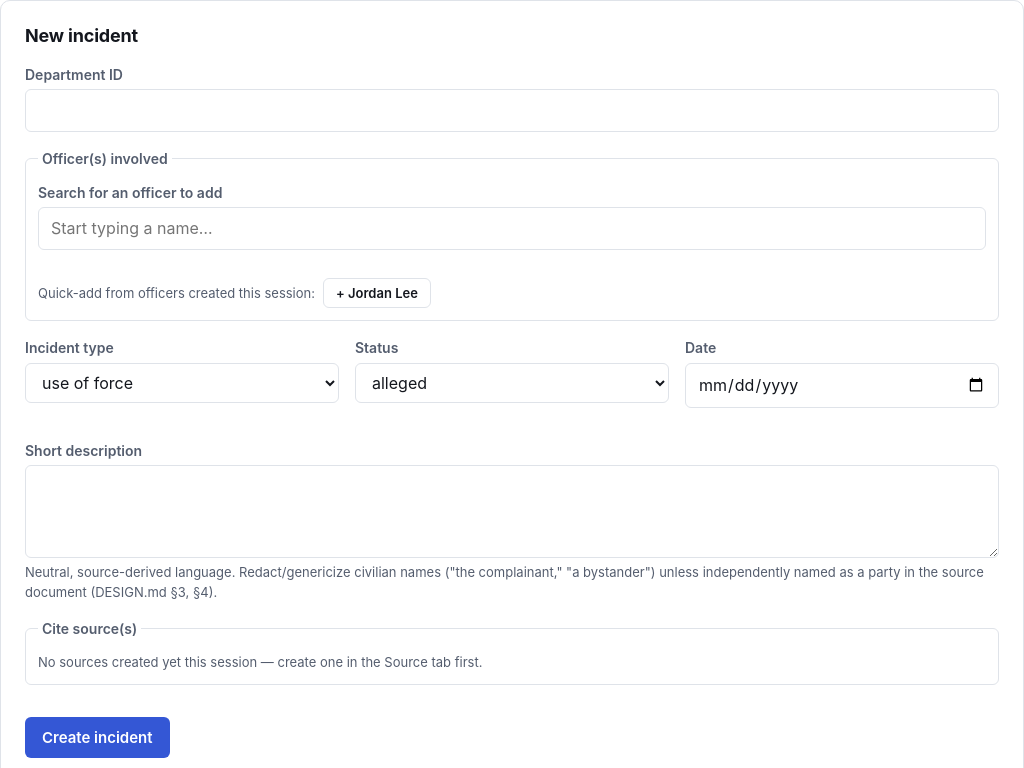
Test: NewIncidentForm › quick-adds an officer created earlier this session and includes it in officerIds
Click the button "+ Jordan Lee": [377, 293] box [323,278,431,308]
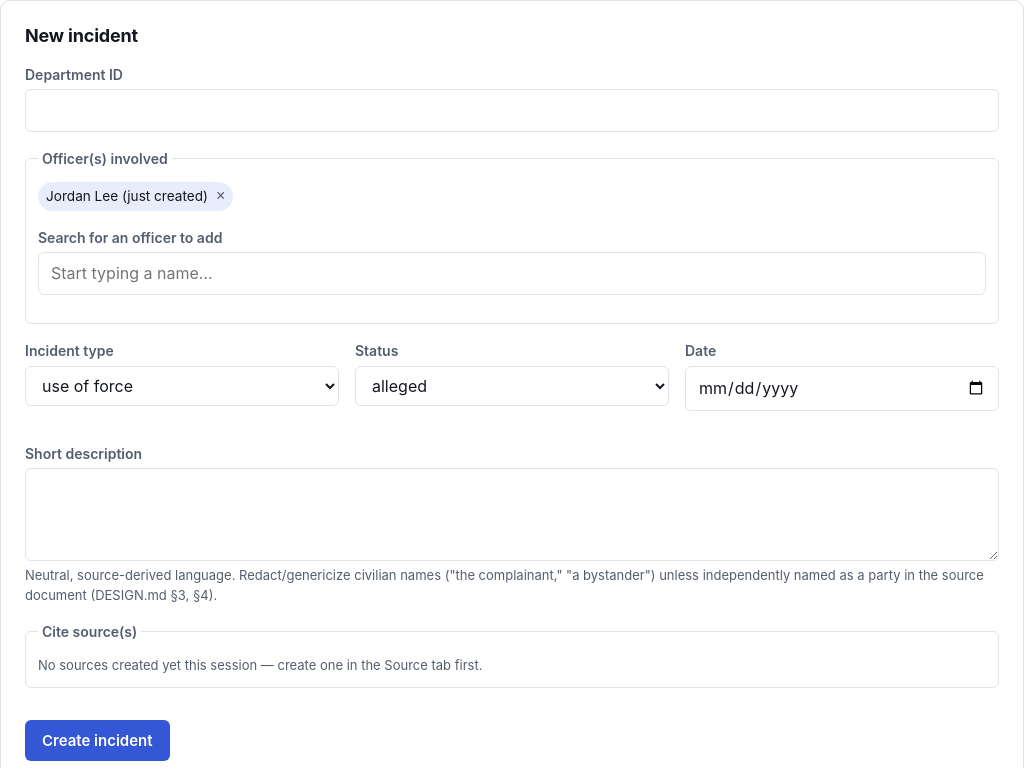
Check: the list item "Jordan Lee (just created) ×" is shown, box [38,182,233,211]
Check: the button "+ Jordan Lee" is gone
In the field labelled "Department ID": [512, 111] box [25,89,999,132], type "dept-1"
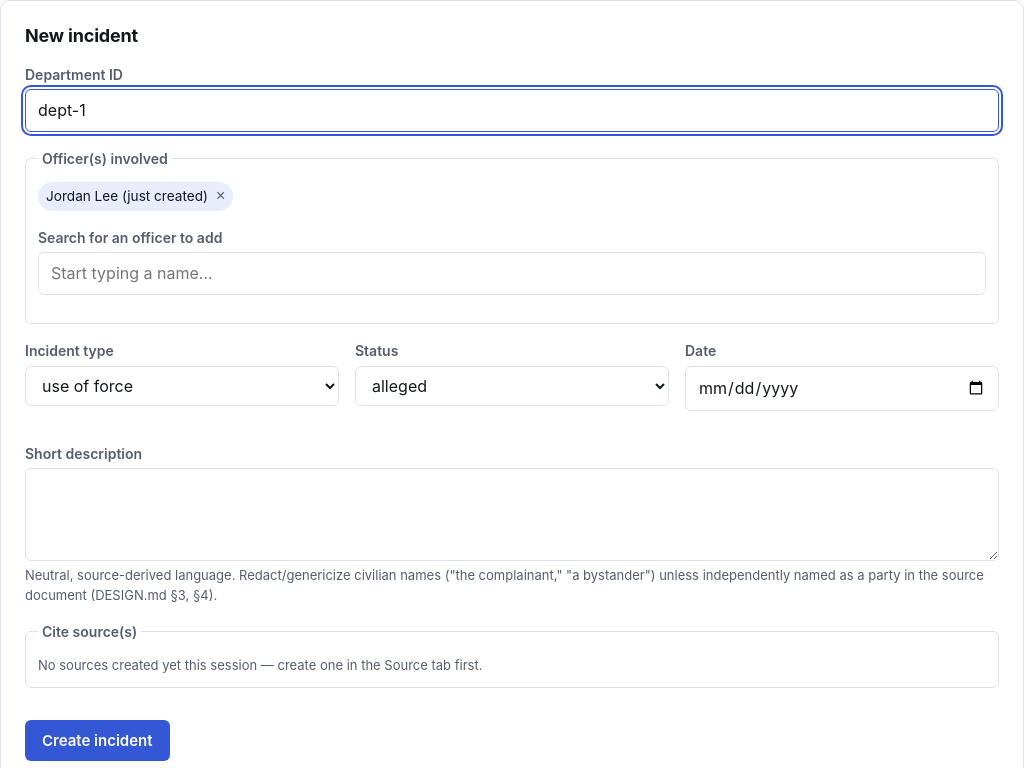
In the date field labelled "Date": [842, 388] box [685,366,999,411], type "2025-06-01"
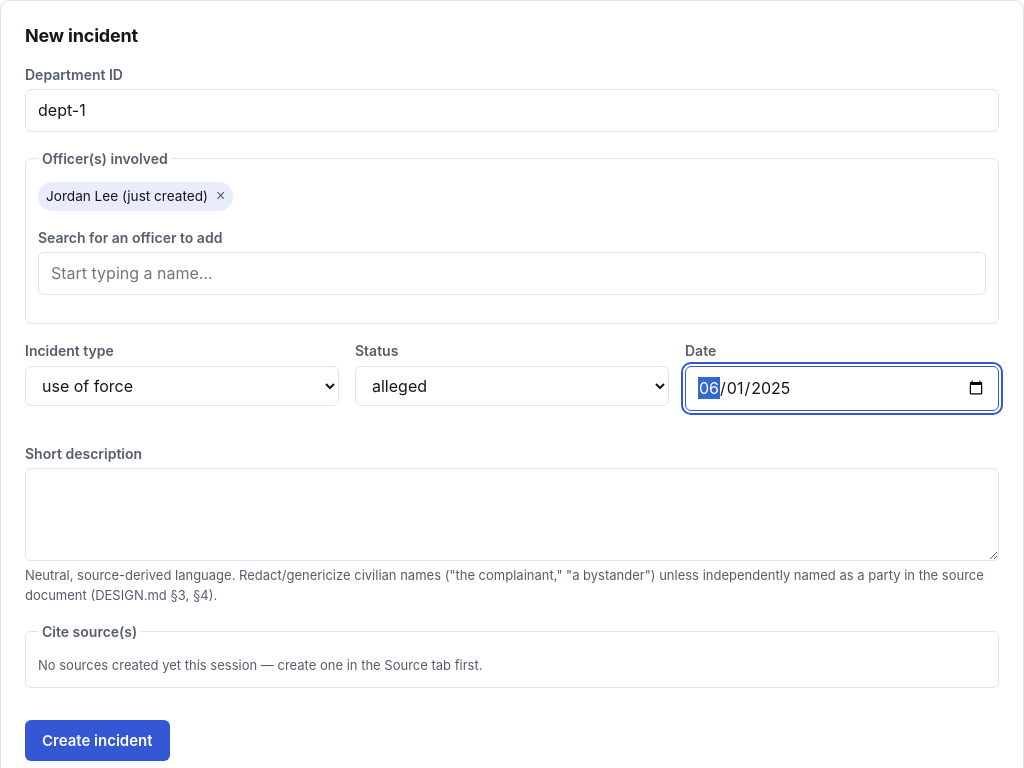
In the text box labelled "Short description": [512, 515] box [25,468,999,561], type "Use of force during a traffic stop."
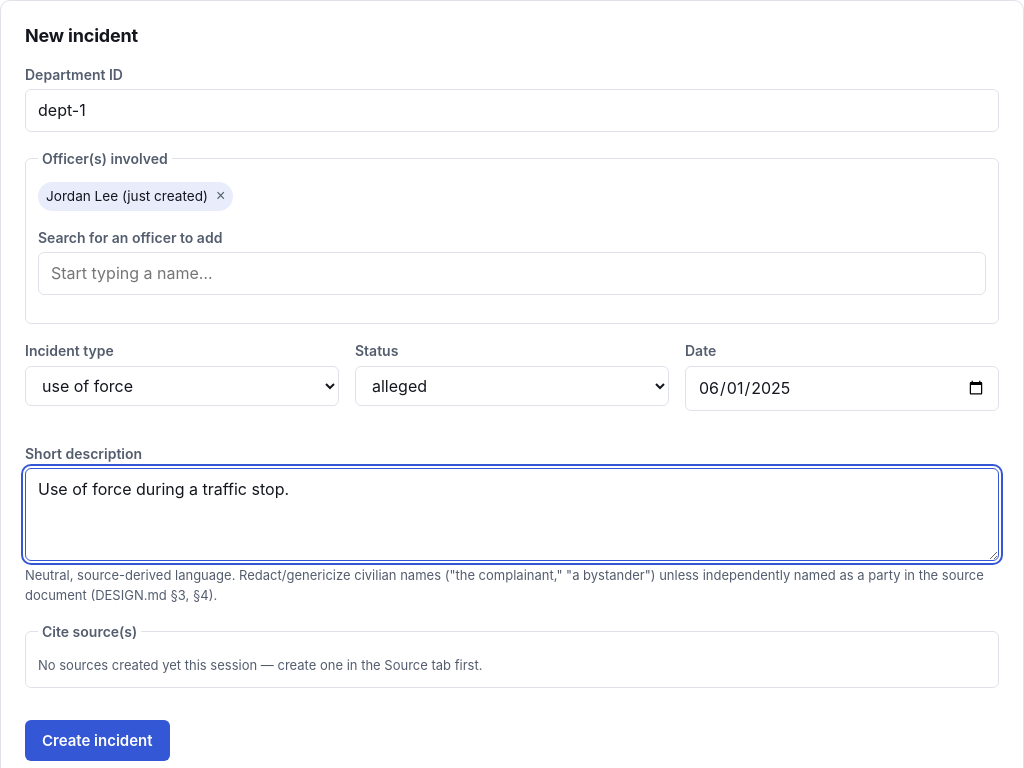
Click the button "Create incident": [97, 741] box [25,720,170,761]
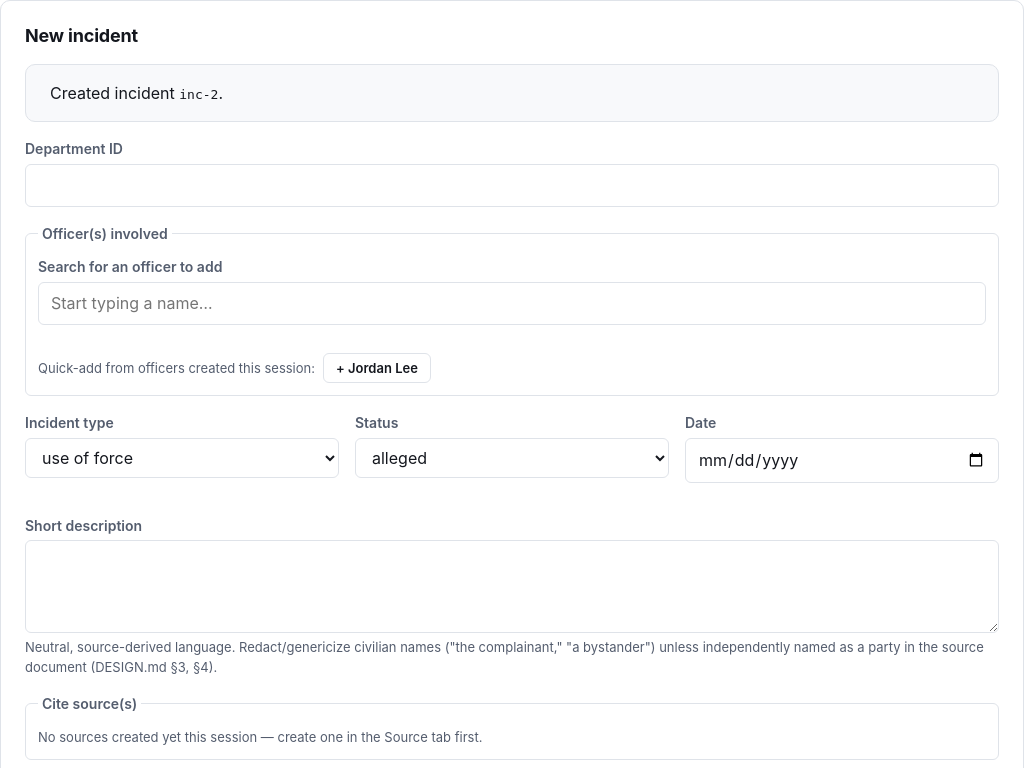
Check: the text "Created incident inc-2." is shown, box [25,64,999,122]
